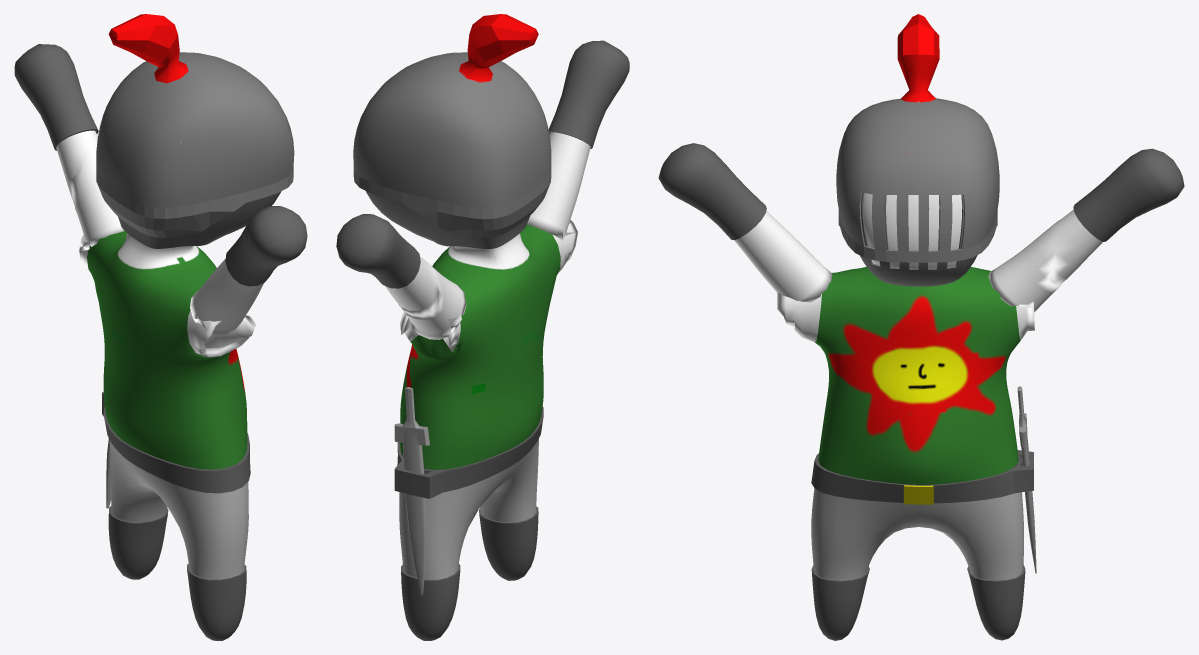
Rendered from warrior_solaire.glb.
3 renders of one model, left to right at view 1: azimuth 30°, elevation 25°; view 2: azimuth 150°, elevation 25°; view 3: azimuth 270°, elevation 25°, orthographic.
Visible parts, largest first — view 1: Object_2; view 2: Object_2; view 3: Object_2.
Boxes of the visible parts, x1=… form: Object_2: x1=14, y1=14, x2=307, y2=640; Object_2: x1=336, y1=14, x2=629, y2=640; Object_2: x1=658, y1=14, x2=1184, y2=640.
Bounding box in the file's own units: 0.7081 × 2.43 × 1.93.
1 material, 1 textured.
